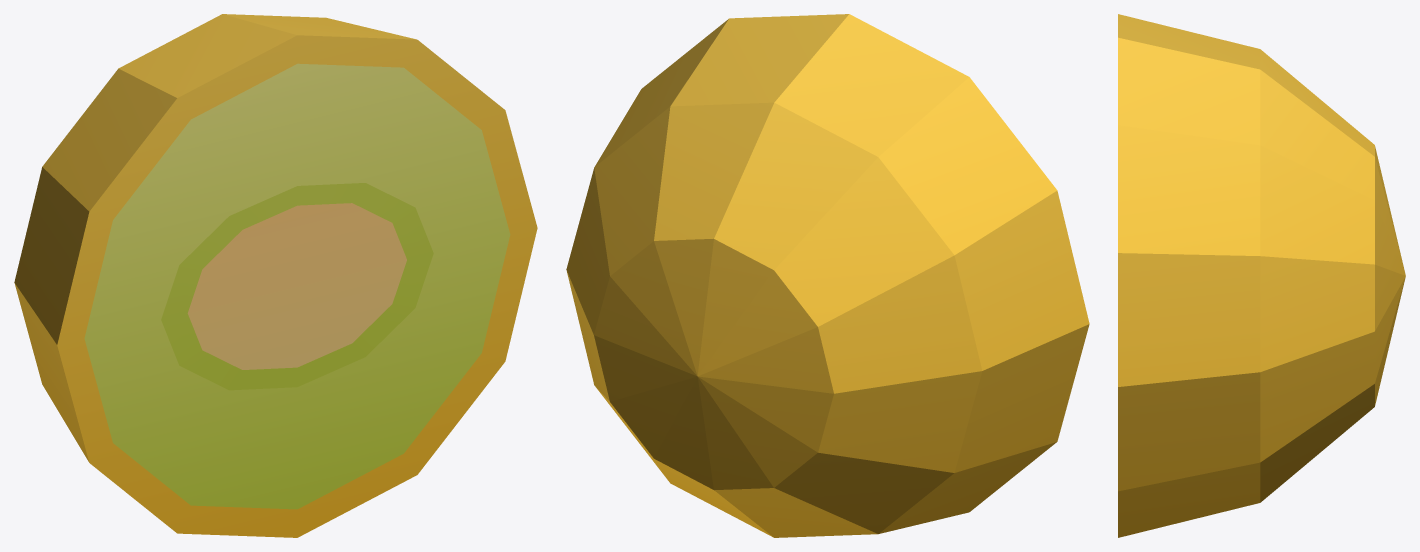
Rendered from Melon Half.fbx.
3 renders of one model, left to right at view 1: azimuth 30°, elevation 25°; view 2: azimuth 150°, elevation 25°; view 3: azimuth 270°, elevation 25°, orthographic. The views are drawn at different scales.
Visible parts, largest first — view 1: Melon Half; view 2: Melon Half; view 3: Melon Half.
Part boxes in pixels (left/top/right/bottom): Melon Half: left=14, top=14, right=537, bottom=537; Melon Half: left=566, top=14, right=1089, bottom=537; Melon Half: left=1118, top=14, right=1405, bottom=537.
Bounding box in the file's own units: 19.84 × 19.84 × 10.86.
